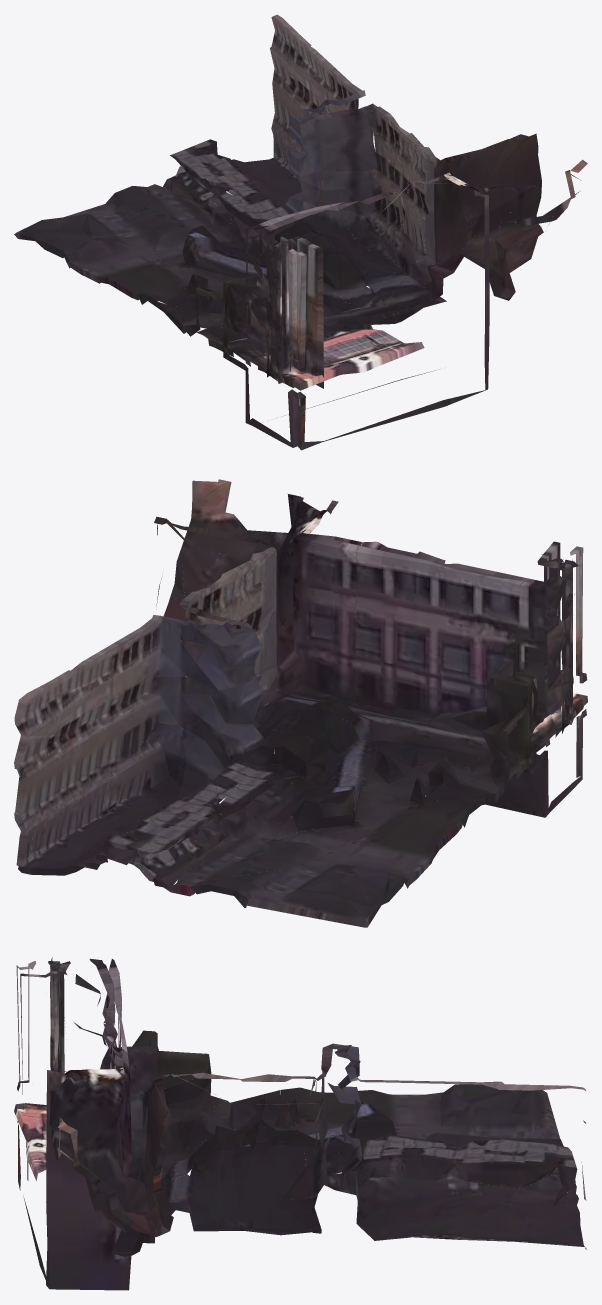
3 views of the same model, one above another, from view 1: azimuth 30°, elevation 25°; view 2: azimuth 150°, elevation 25°; view 3: azimuth 270°, elevation 25° (orthographic). The views are drawn at different scales.
Parts seen in each view (by area): view 1: Mesh_0; view 2: Mesh_0; view 3: Mesh_0.
Part boxes in pixels (left/top/right/bottom): Mesh_0: left=14, top=14, right=587, bottom=450; Mesh_0: left=14, top=479, right=587, bottom=927; Mesh_0: left=14, top=957, right=586, bottom=1290.
Bounding box in the file's own units: 33.39 × 17.74 × 41.22.
Materials: 2 (2 with a texture image).
